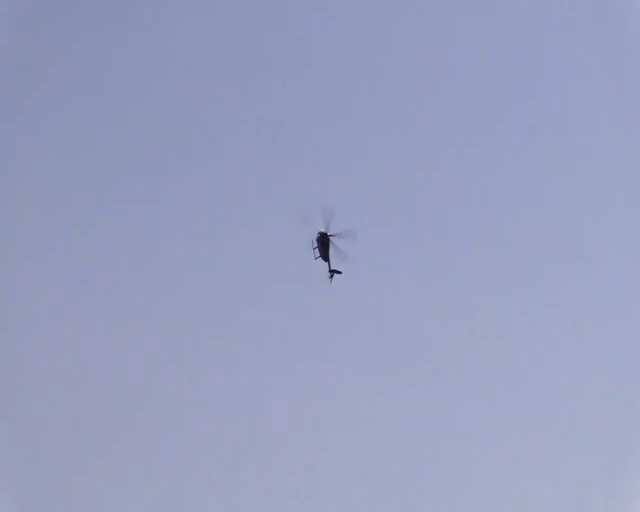HELICOPTER: (311, 206, 357, 283)
